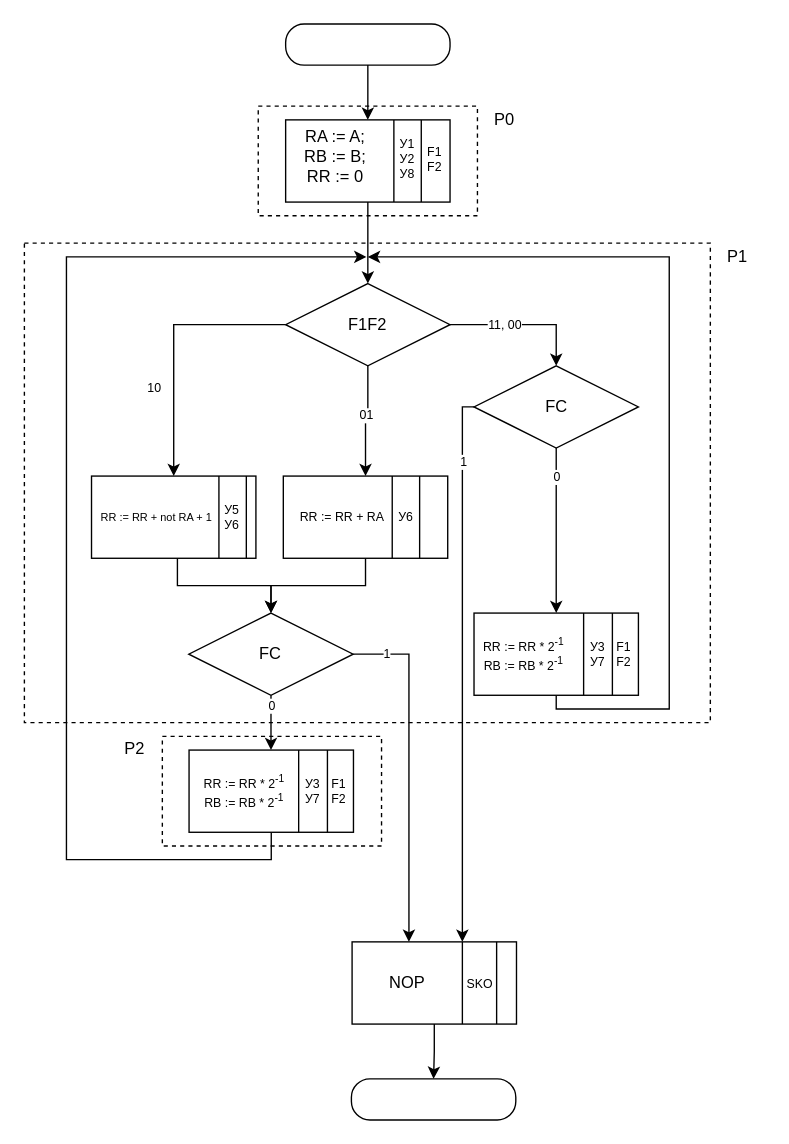
Some shapes in this 789 by 1144 pixel diagram are drawn without their labels. Here are the shapes that lost their labels. From the top down, the box of each, then its label:
(284, 23, 450, 65): Начало
(350, 1078, 516, 1120): Конец
